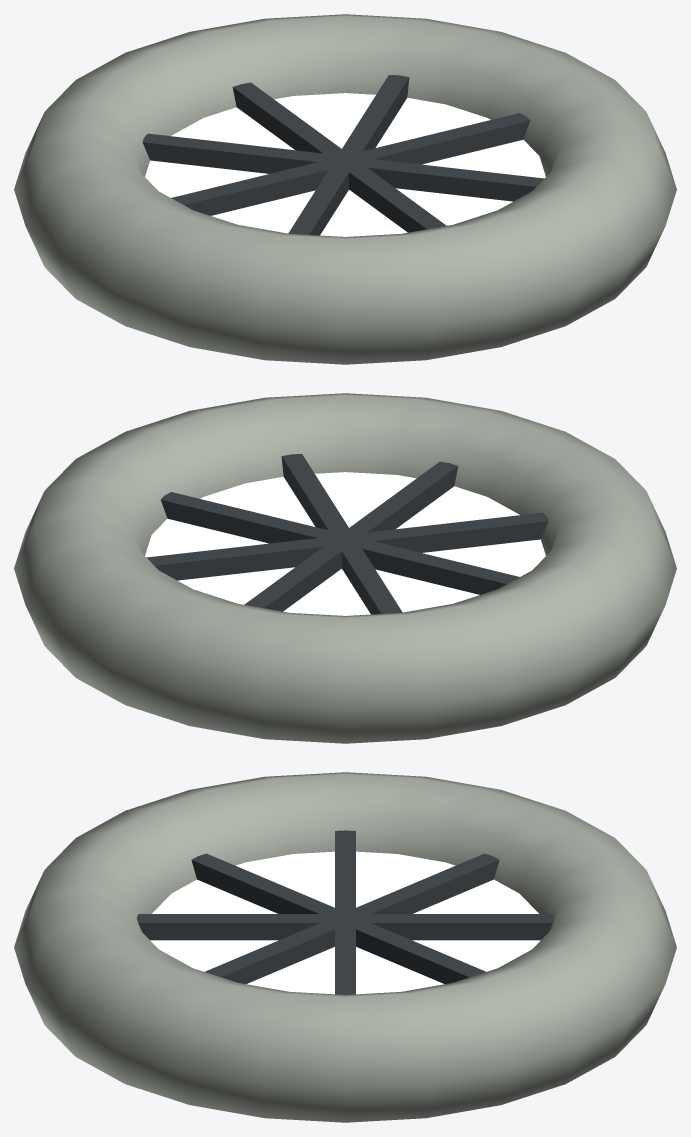
Rendered from AirVent.fbx.
3 views of the same model, one above another, from view 1: azimuth 30°, elevation 25°; view 2: azimuth 150°, elevation 25°; view 3: azimuth 270°, elevation 25° (orthographic).
Parts seen in each view (by area): view 1: AirVent; view 2: AirVent; view 3: AirVent.
Boxes of the visible parts, box(x1,y1,x2,y2) form: AirVent: box(14, 14, 676, 364); AirVent: box(14, 393, 676, 743); AirVent: box(14, 772, 676, 1122).
Bounding box in the file's own units: 1.56 × 0.32 × 1.56.
